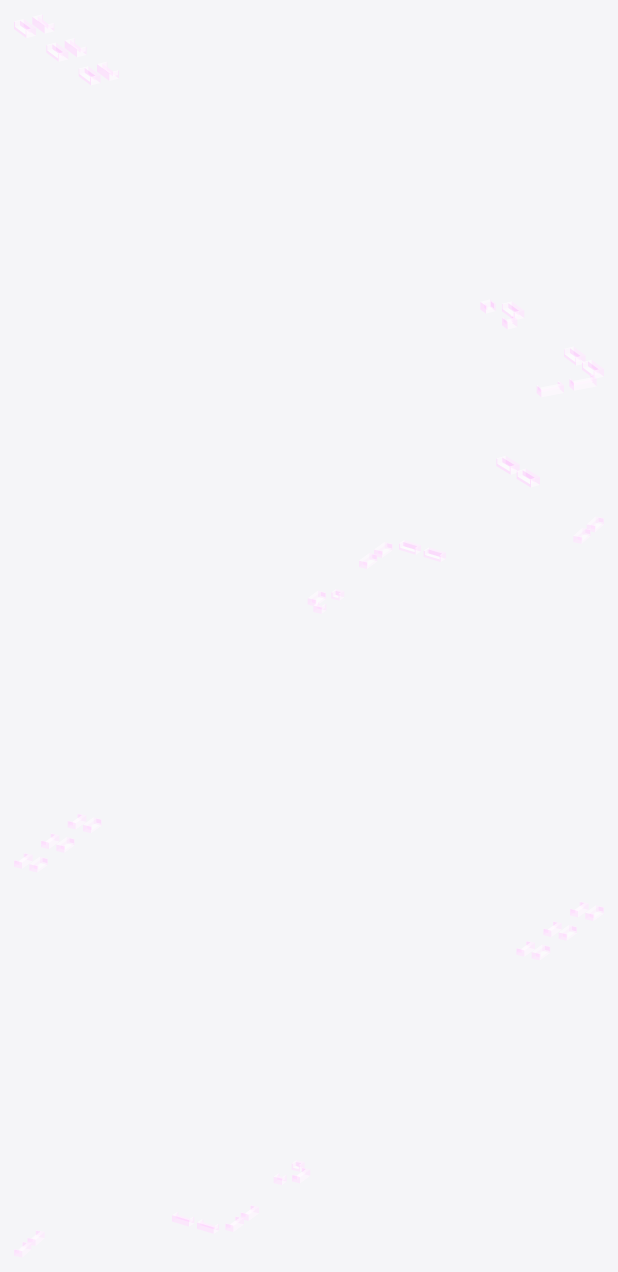
File: Chairs.glb
The picture shows the model from 3 angles, top to bottom: view 1: azimuth 30°, elevation 25°; view 2: azimuth 150°, elevation 25°; view 3: azimuth 330°, elevation 25°; orthographic projection. The views are drawn at different scales.
Parts seen in each view (by area): view 1: debug_view; view 2: debug_view; view 3: debug_view.
Boxes of the visible parts, box(x1,y1,x2,y2) form: debug_view: box(14, 14, 603, 487); debug_view: box(14, 516, 603, 872); debug_view: box(14, 901, 603, 1257).
Size of the model in its own units: 24.67 by 1.05 by 148.
